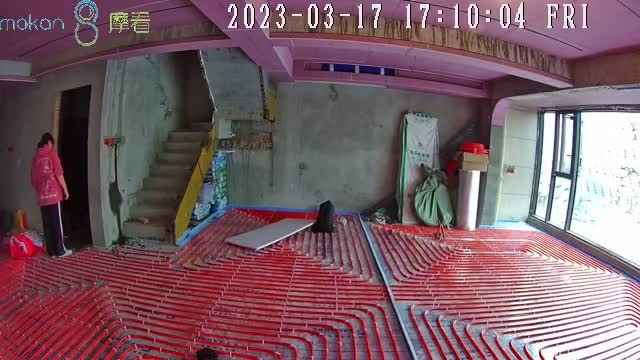people: (30, 133, 72, 258)
window: (533, 109, 640, 266)
